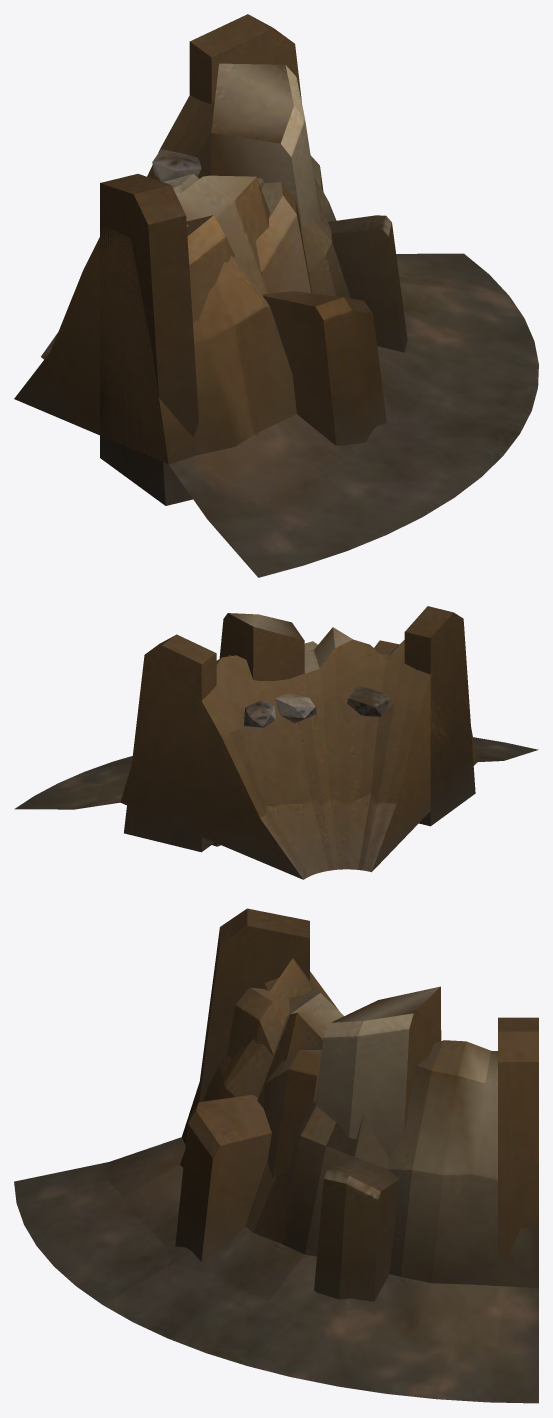
Rendered from cliff-outer-1.glb.
3 views of the same model, one above another, from view 1: azimuth 30°, elevation 25°; view 2: azimuth 150°, elevation 25°; view 3: azimuth 270°, elevation 25° (orthographic). The views are drawn at different scales.
Parts seen in each view (by area): view 1: cliff-outer-1; view 2: cliff-outer-1; view 3: cliff-outer-1.
Boxes of the visible parts, x1,y1,x2,y2 form: cliff-outer-1: (14,14,538,577); cliff-outer-1: (14,606,538,879); cliff-outer-1: (14,908,538,1403).
Bounding box in the file's own units: 3.85 × 2.28 × 3.85.
Materials: 3 (3 with a texture image).
